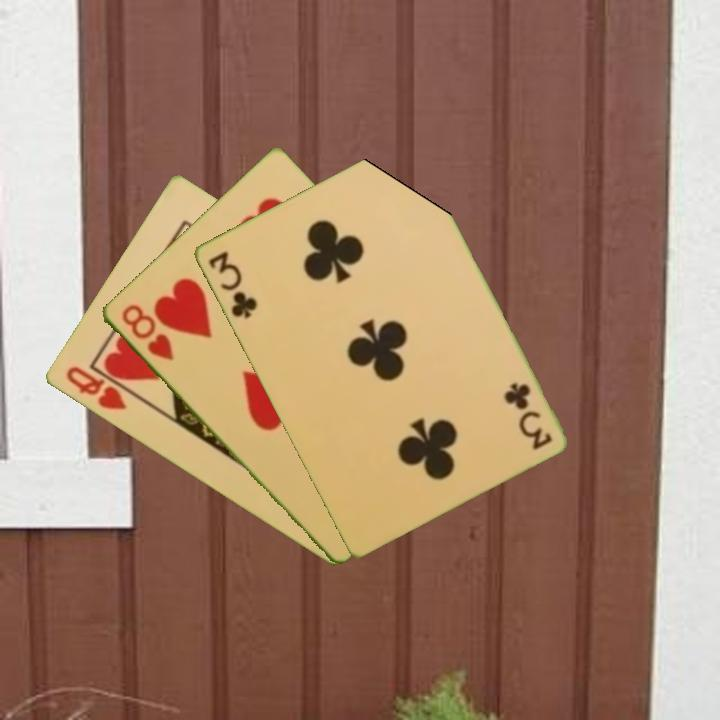3c: (204, 247, 260, 321), (501, 379, 554, 453)
8h: (117, 300, 176, 364)
Qh: (61, 362, 129, 413)
